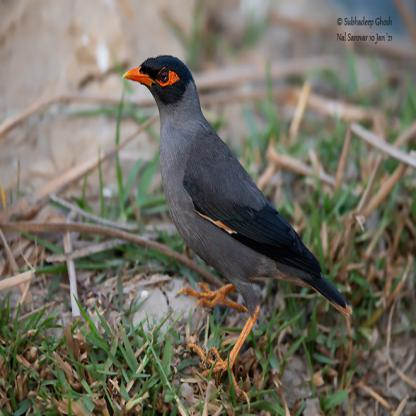Burung: (121, 55, 351, 372)
